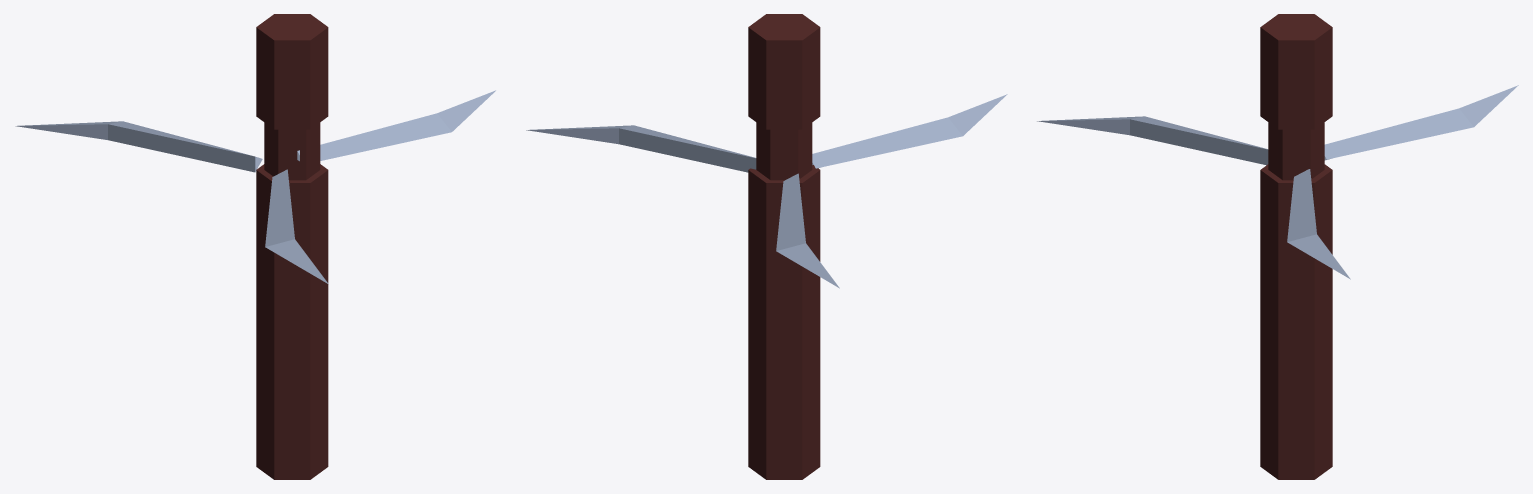
Rendered from blade-trap.glb.
3 views of the same model, side by side, from view 1: azimuth 30°, elevation 25°; view 2: azimuth 150°, elevation 25°; view 3: azimuth 270°, elevation 25° (orthographic).
Visible parts, largest first — view 1: blade trap; view 2: blade trap; view 3: blade trap.
Boxes of the visible parts, x1,y1,x2,y2 form: blade trap: (15, 14, 495, 479); blade trap: (526, 14, 1007, 479); blade trap: (1037, 14, 1518, 479).
Size of the model in its own units: 1.91 by 2.01 by 2.
